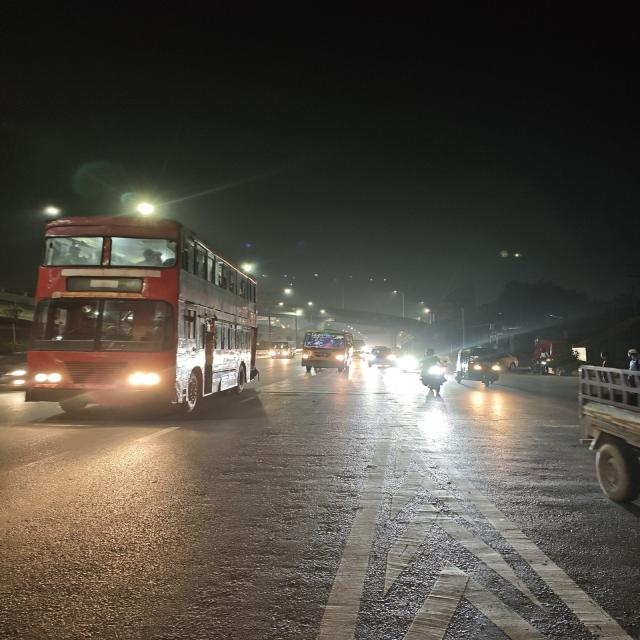bus: (29, 206, 262, 422), (294, 322, 354, 378)
car: (367, 346, 396, 372)
cng: (454, 348, 502, 389)
motorcycle: (414, 346, 449, 394), (530, 350, 552, 378)
